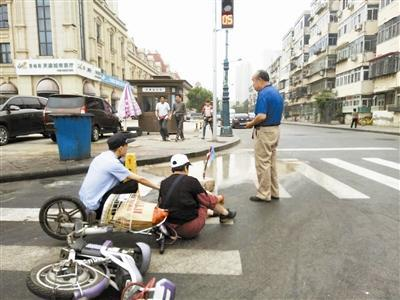fall: (151, 147, 241, 237)
